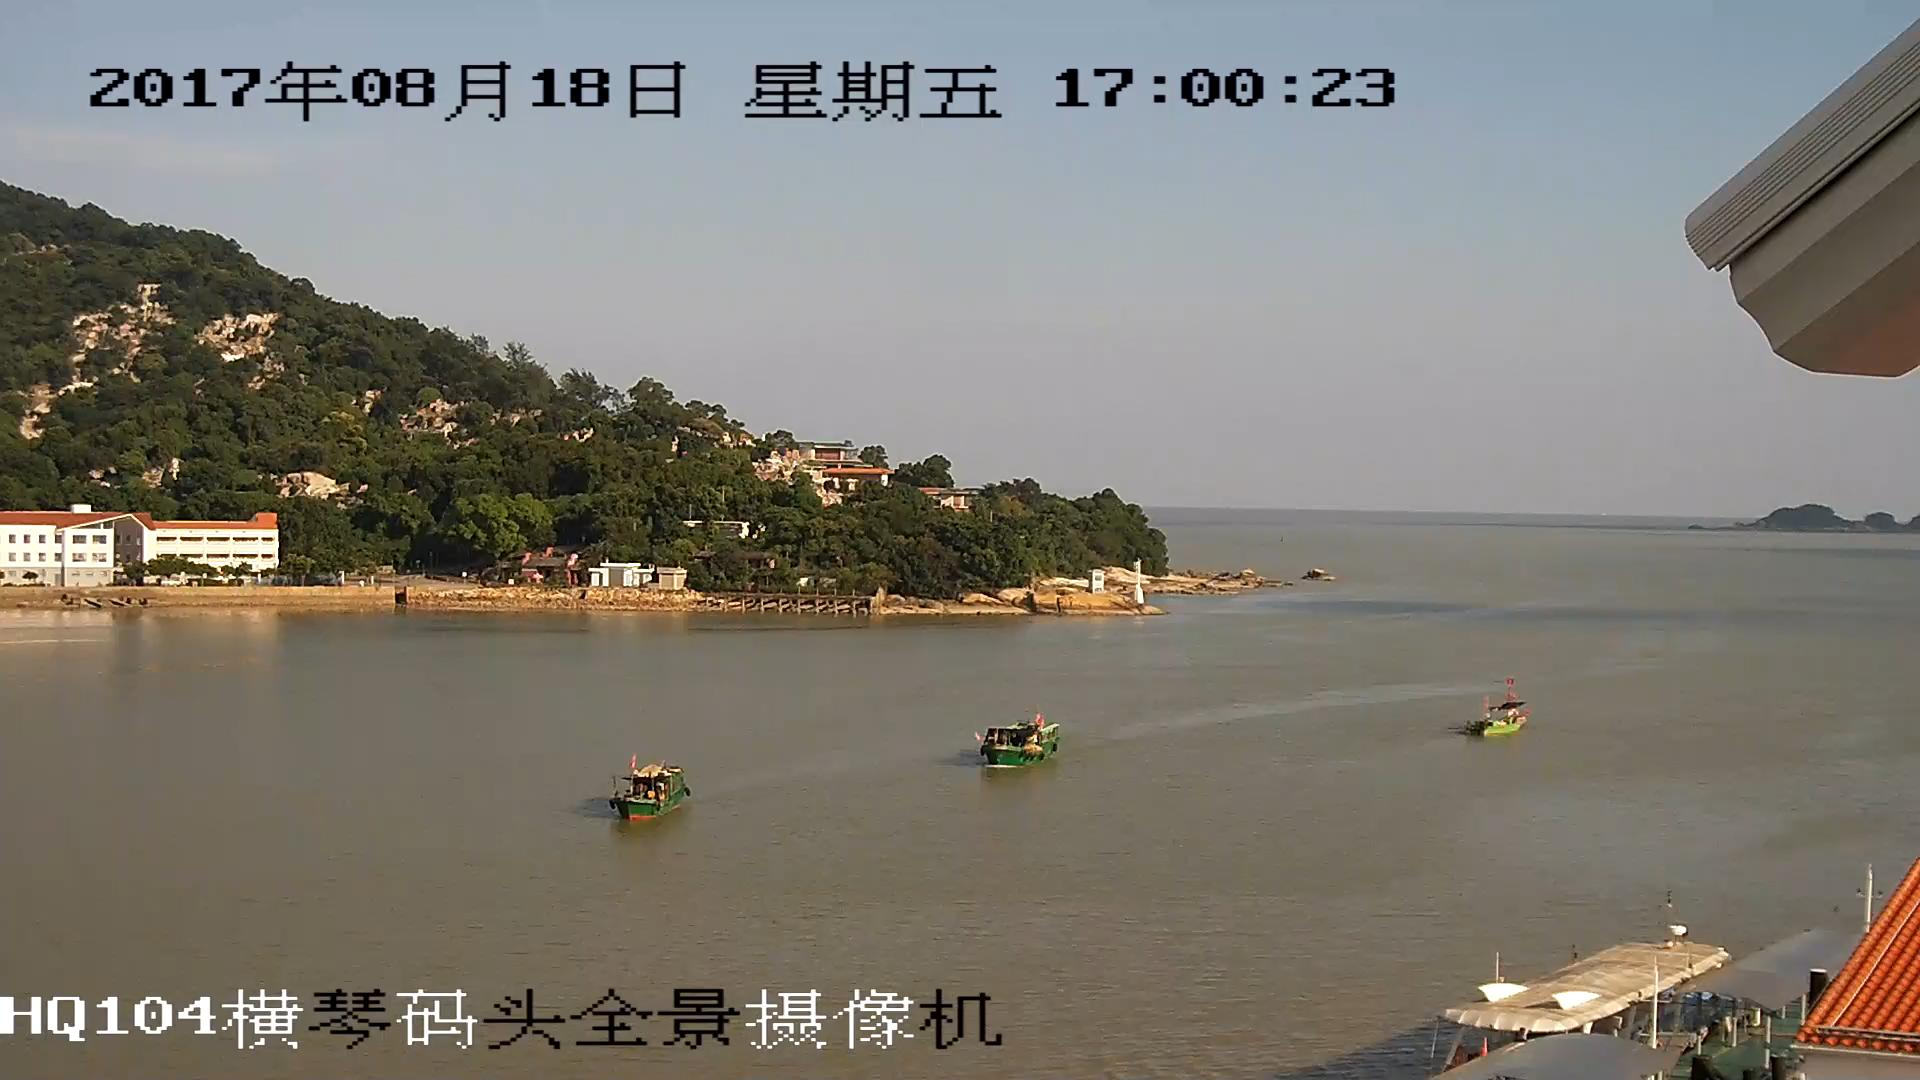fishing boat: (613, 763, 688, 819), (980, 720, 1059, 767), (1468, 697, 1525, 736)
